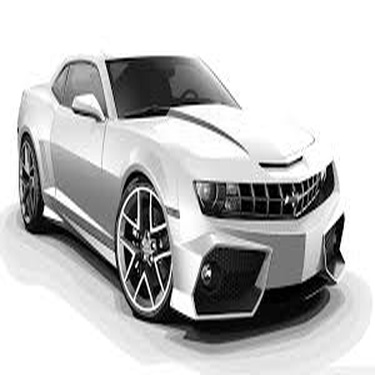car: (8, 30, 351, 333)
